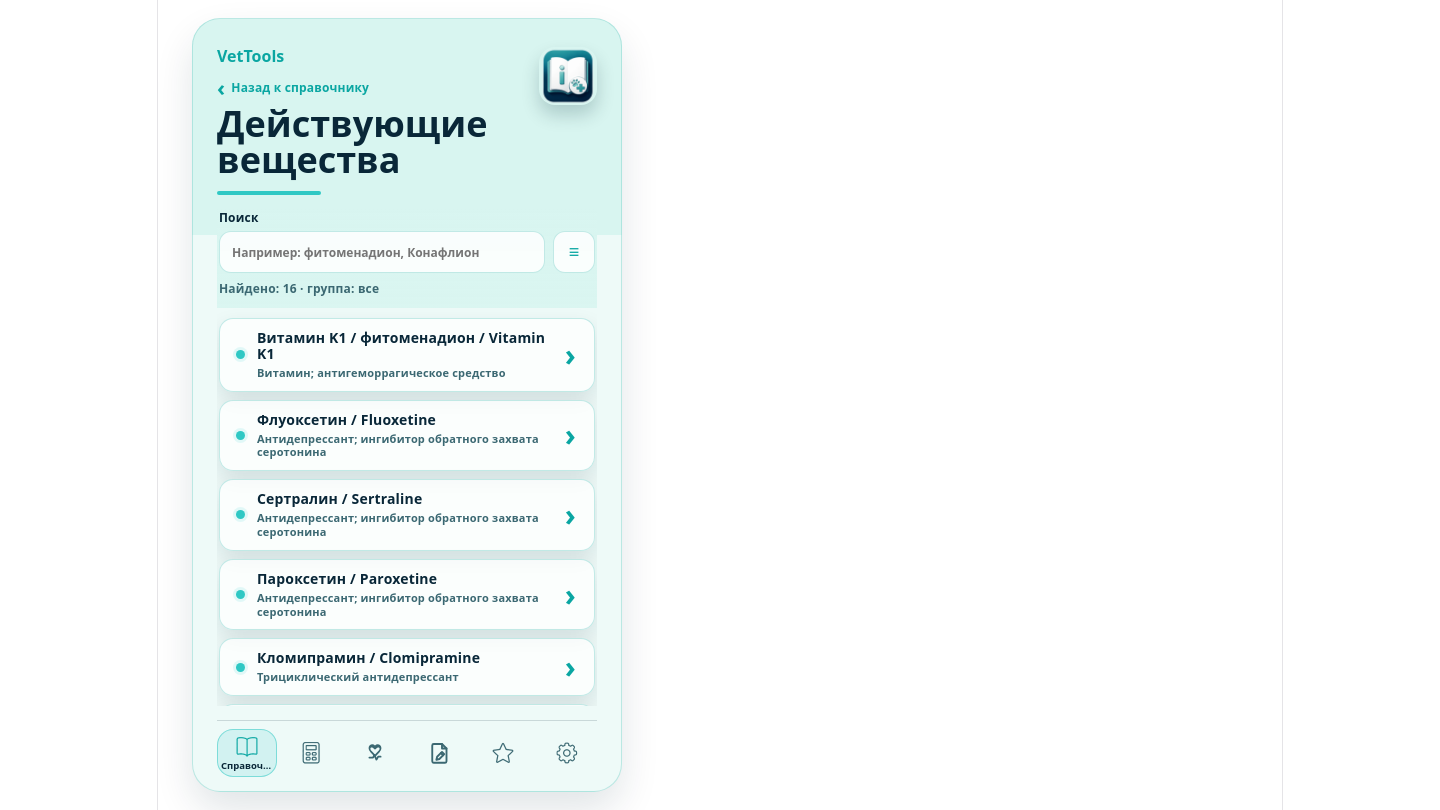
ActiveSubstancesReferencePage › filters by pharmacological group
The width and height of the screenshot is (1440, 810).
What coordinates should you click on to do the following:
click the button named "Фильтр по фармакологической группе"
I would click on:
 (574, 252)
Its box is [553, 231, 595, 273].
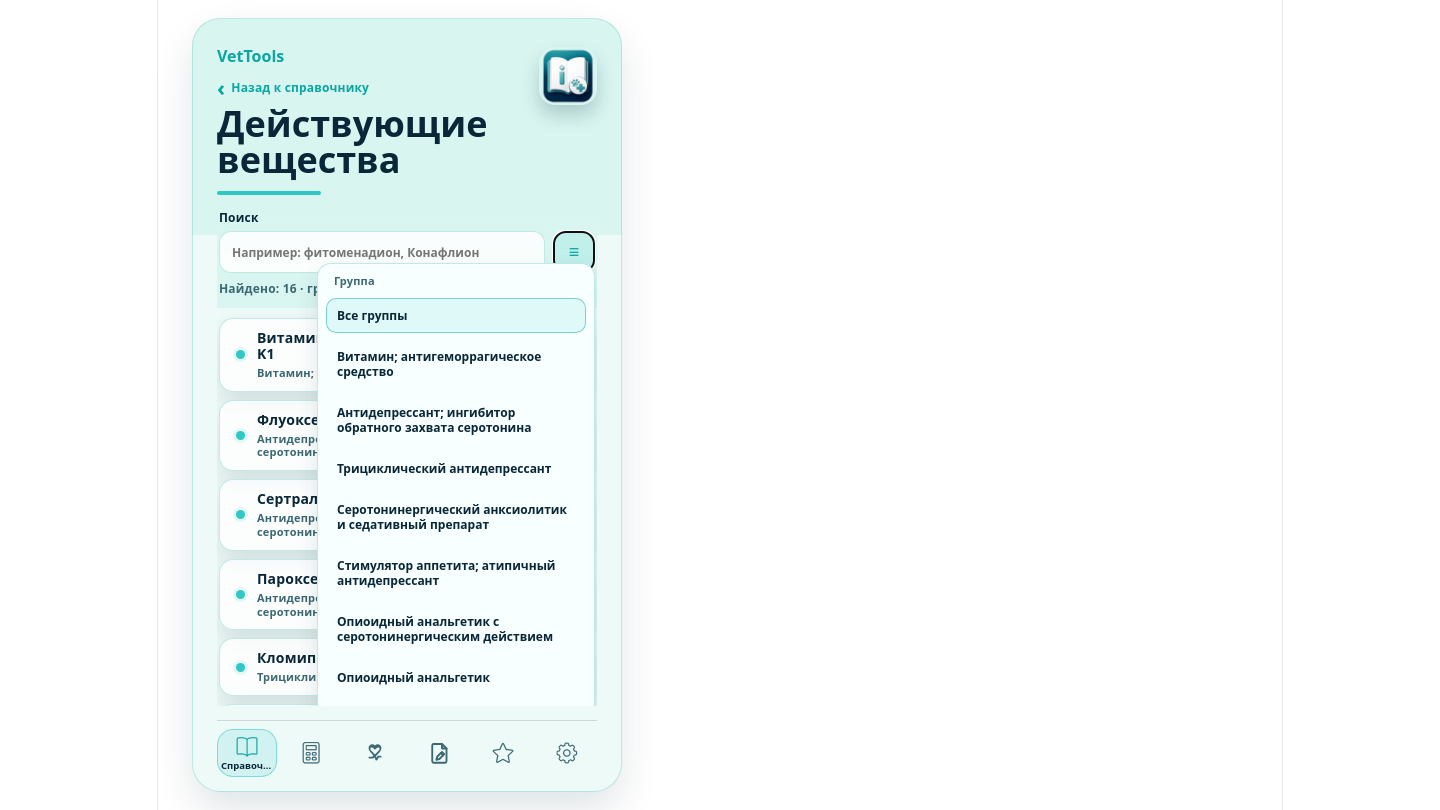
What coordinates should you click on to do the following:
click the menu item "Витамин; антигеморрагическое средство"
I would click on:
 (456, 364)
Its box is [326, 339, 586, 389].
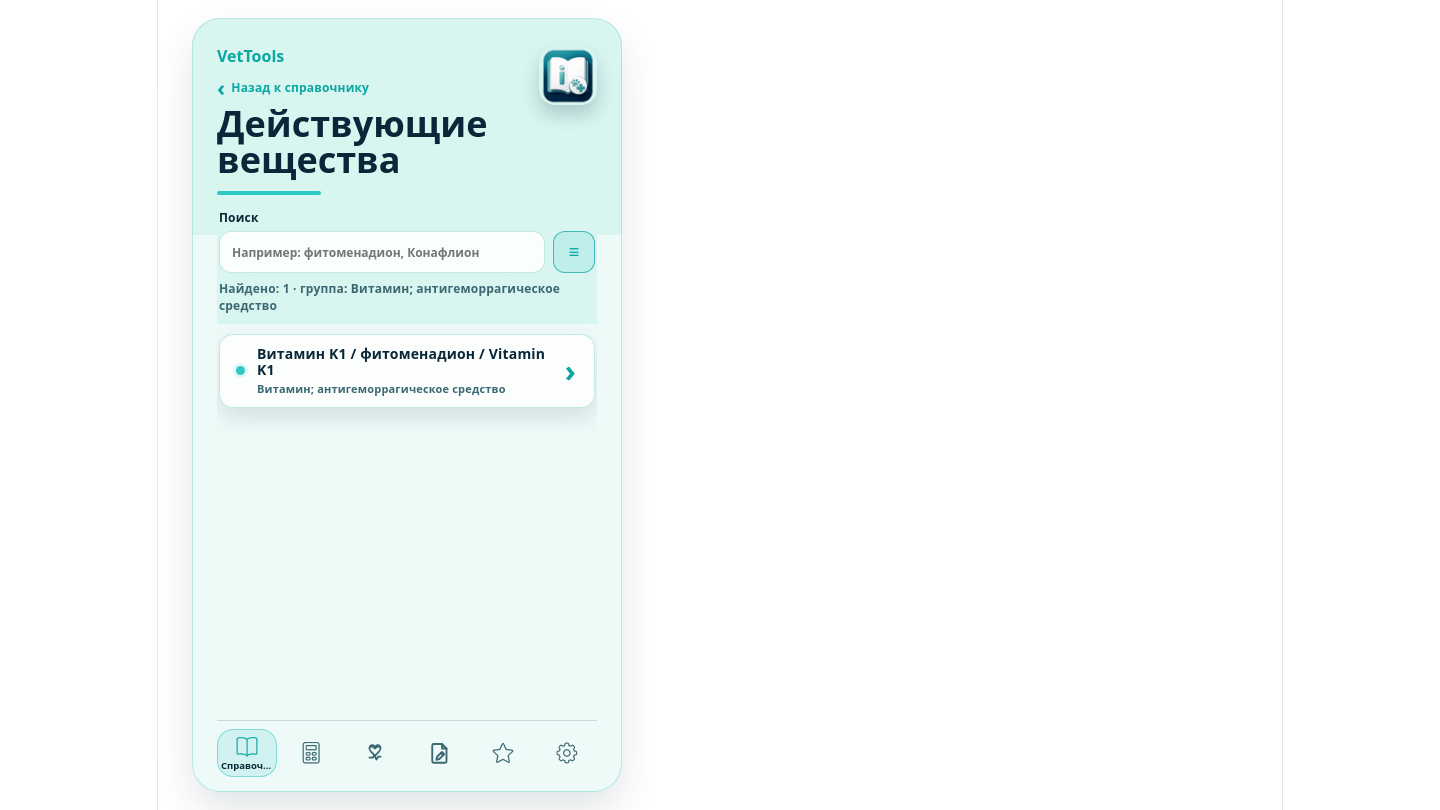
Expected: the text "Витамин K1 / фитоменадион / Vitamin K1" is shown, [257, 346, 553, 378]
Now the text "Найдено: 1 · группа: Витамин; антигеморрагическое средство" is shown, box [219, 281, 595, 314]
